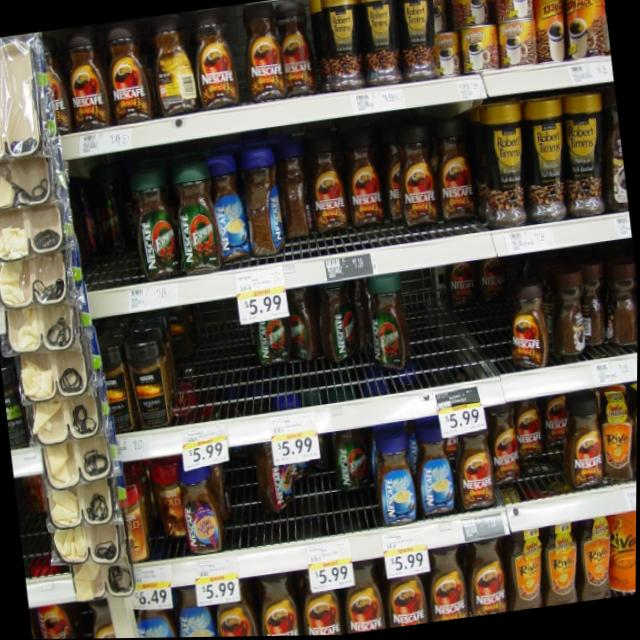q13: (57, 26, 114, 139), (191, 13, 248, 121), (99, 20, 152, 133), (391, 125, 443, 240), (341, 132, 388, 238), (429, 125, 478, 226), (500, 282, 552, 375), (295, 150, 348, 237), (454, 428, 503, 520), (274, 0, 314, 110), (244, 11, 287, 109), (478, 401, 524, 488), (507, 393, 563, 464)
